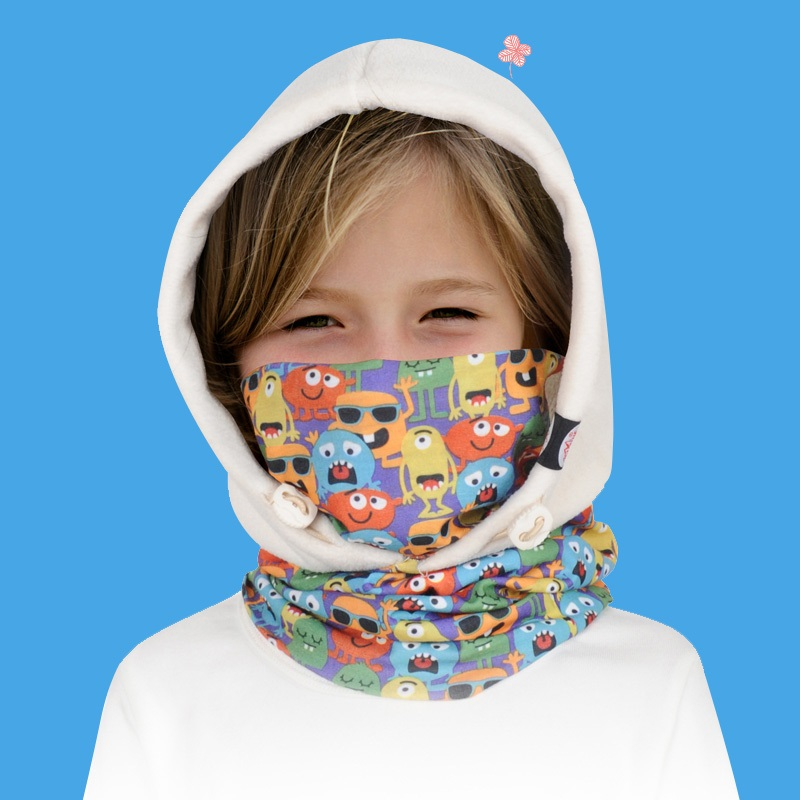face_mask: (246, 163, 523, 557)
